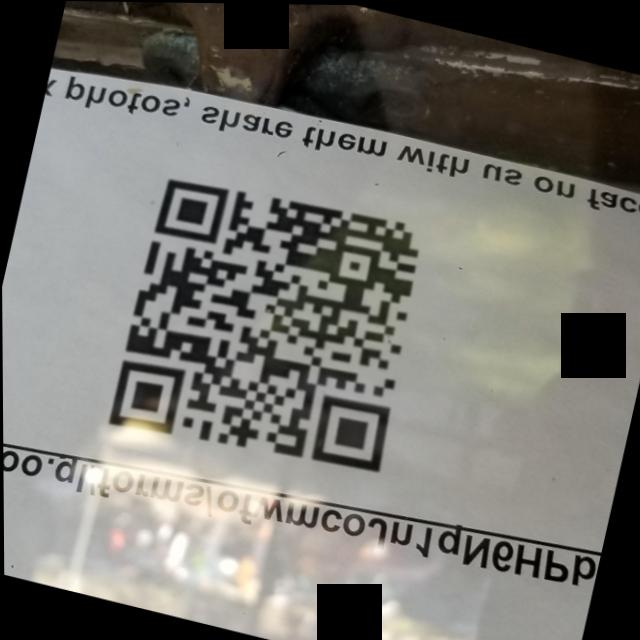QR_CODE: (88, 150, 442, 508)
